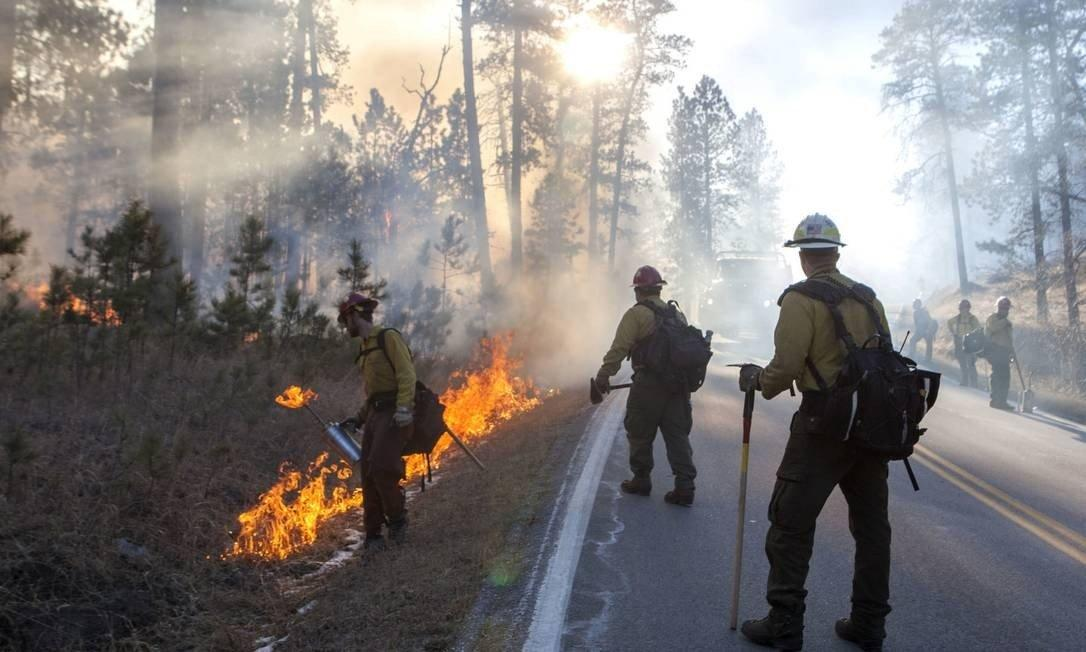fire: (262, 452, 357, 555), (447, 338, 510, 445)
smoke: (525, 262, 615, 363)
